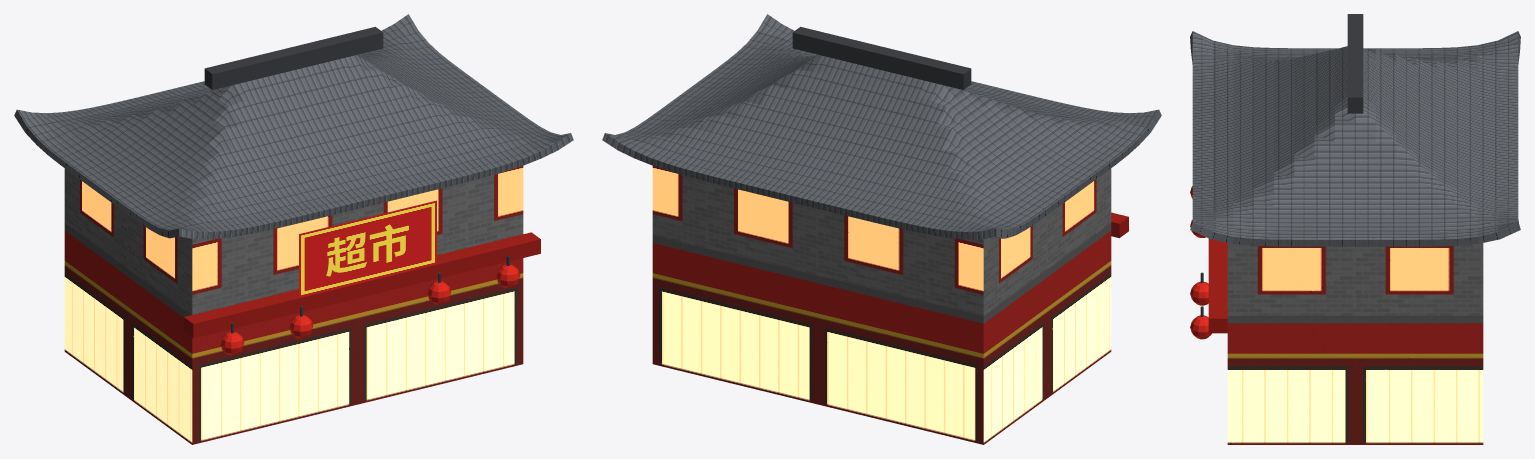
Rendered from chn_shop_a.glb.
The picture shows the model from 3 angles, left to right: view 1: azimuth 30°, elevation 25°; view 2: azimuth 150°, elevation 25°; view 3: azimuth 270°, elevation 25°; orthographic projection.
Parts seen in each view (by area): view 1: croof; view 2: croof; view 3: croof.
Part boxes in pixels (left/top/right/bottom): croof: left=14, top=14, right=573, bottom=444; croof: left=602, top=14, right=1161, bottom=444; croof: left=1190, top=14, right=1520, bottom=444.
Bounding box in the file's own units: 14.3 × 10.65 × 10.36.
7 materials, 4 textured.
